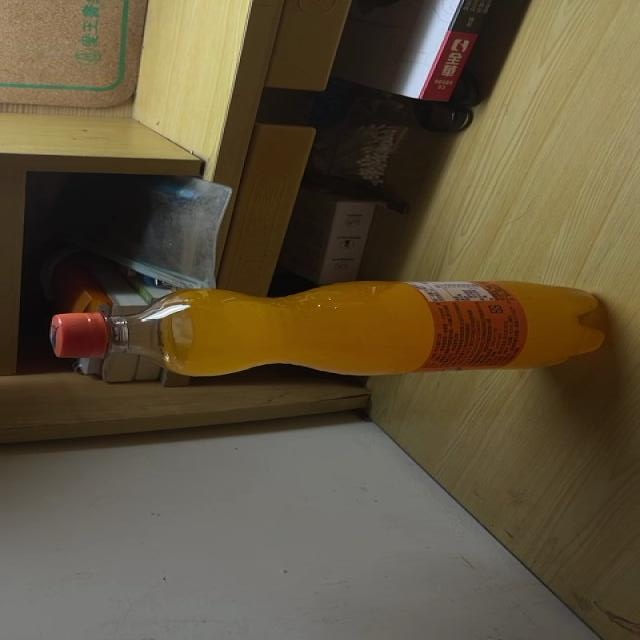Fanta: (50, 279, 608, 378)
